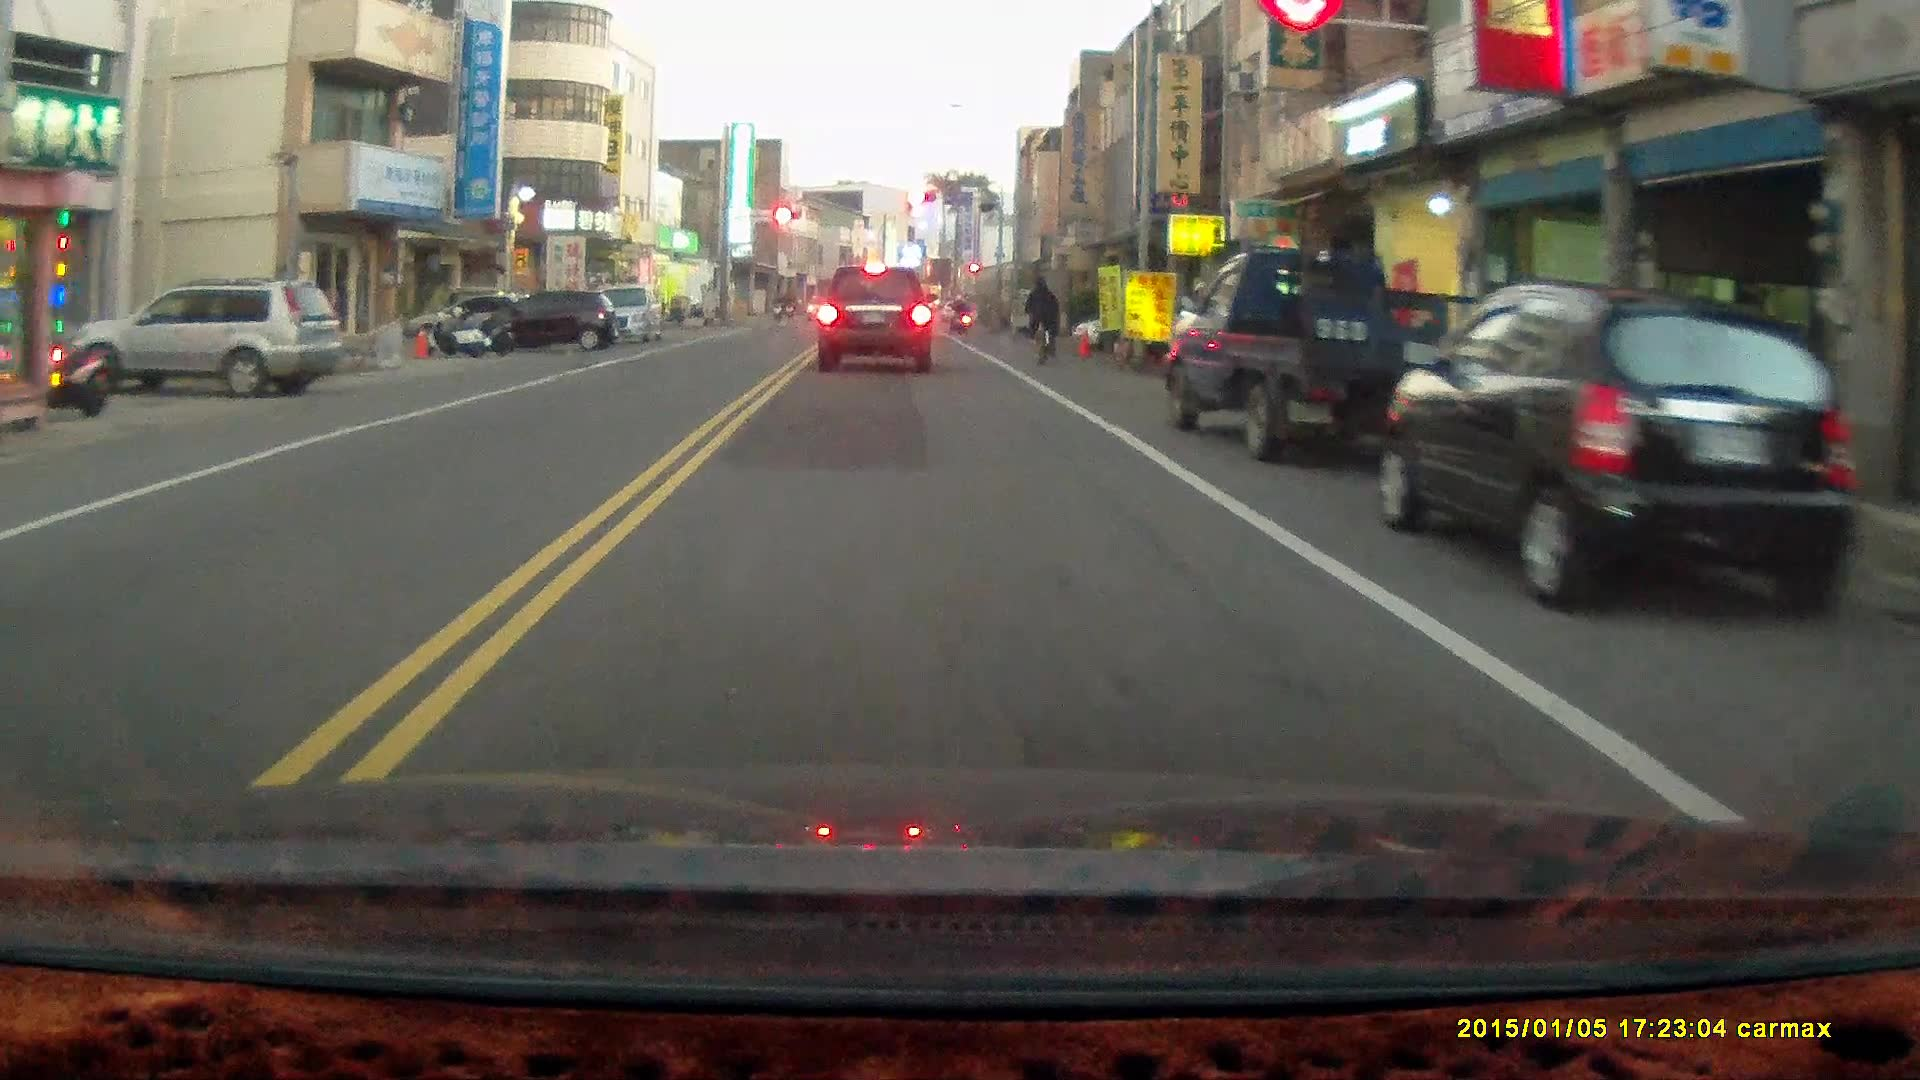rider: (1022, 270, 1064, 370)
vehicle: (1383, 283, 1842, 623), (1169, 245, 1485, 456), (71, 270, 345, 407), (817, 261, 936, 376), (483, 291, 630, 358), (570, 277, 668, 349)
